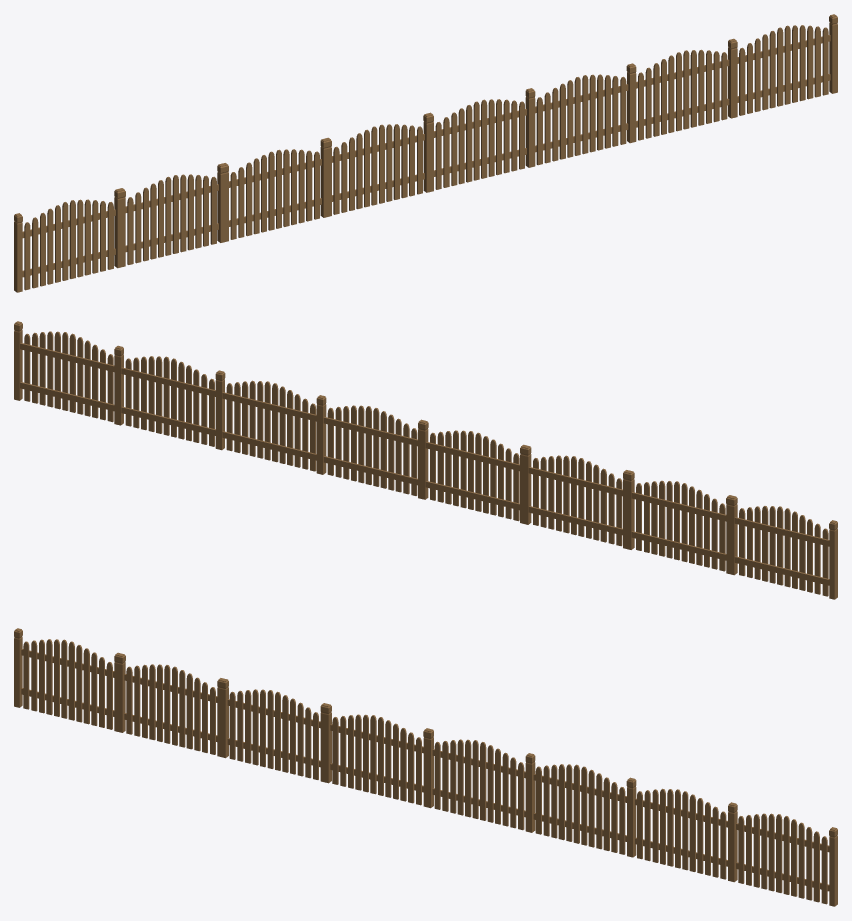
The model's file is Zaun.dae.
3 renders of one model, top to bottom at view 1: azimuth 30°, elevation 25°; view 2: azimuth 150°, elevation 25°; view 3: azimuth 330°, elevation 25°, orthographic.
Visible parts, largest first — view 1: fencee_007, fencee_007_007, fencee_007_002, fencee_007_005, fencee_007_001, fencee_007_004, fencee_007_006, fencee_007_003; view 2: fencee_007, fencee_007_007, fencee_007_005, fencee_007_006, fencee_007_003, fencee_007_001, fencee_007_004, fencee_007_002; view 3: fencee_007_007, fencee_007_005, fencee_007, fencee_007_004, fencee_007_001, fencee_007_002, fencee_007_003, fencee_007_006.
Part boxes in pixels (x1=…): fencee_007: x1=14, y1=189, x2=122, y2=292; fencee_007_007: x1=730, y1=14, x2=837, y2=118; fencee_007_002: x1=222, y1=139, x2=329, y2=242; fencee_007_005: x1=528, y1=64, x2=635, y2=167; fencee_007_001: x1=119, y1=163, x2=225, y2=267; fencee_007_004: x1=427, y1=89, x2=534, y2=192; fencee_007_006: x1=629, y1=39, x2=736, y2=142; fencee_007_003: x1=324, y1=113, x2=430, y2=216; fencee_007: x1=728, y1=496, x2=837, y2=599; fencee_007_007: x1=14, y1=321, x2=121, y2=425; fencee_007_005: x1=216, y1=371, x2=323, y2=474; fencee_007_006: x1=115, y1=346, x2=222, y2=449; fencee_007_003: x1=419, y1=421, x2=527, y2=524; fencee_007_001: x1=625, y1=470, x2=733, y2=574; fencee_007_004: x1=317, y1=396, x2=425, y2=498; fencee_007_002: x1=522, y1=446, x2=630, y2=549; fencee_007_007: x1=728, y1=802, x2=837, y2=906; fencee_007_005: x1=526, y1=753, x2=632, y2=856; fencee_007: x1=14, y1=628, x2=119, y2=731; fencee_007_004: x1=425, y1=728, x2=531, y2=831; fencee_007_001: x1=117, y1=653, x2=223, y2=756; fencee_007_002: x1=220, y1=678, x2=326, y2=781; fencee_007_003: x1=323, y1=703, x2=428, y2=806; fencee_007_006: x1=627, y1=778, x2=733, y2=881.
Size of what is drawn, in the model's own units: 13.7 by 0.0935 by 1.24.
